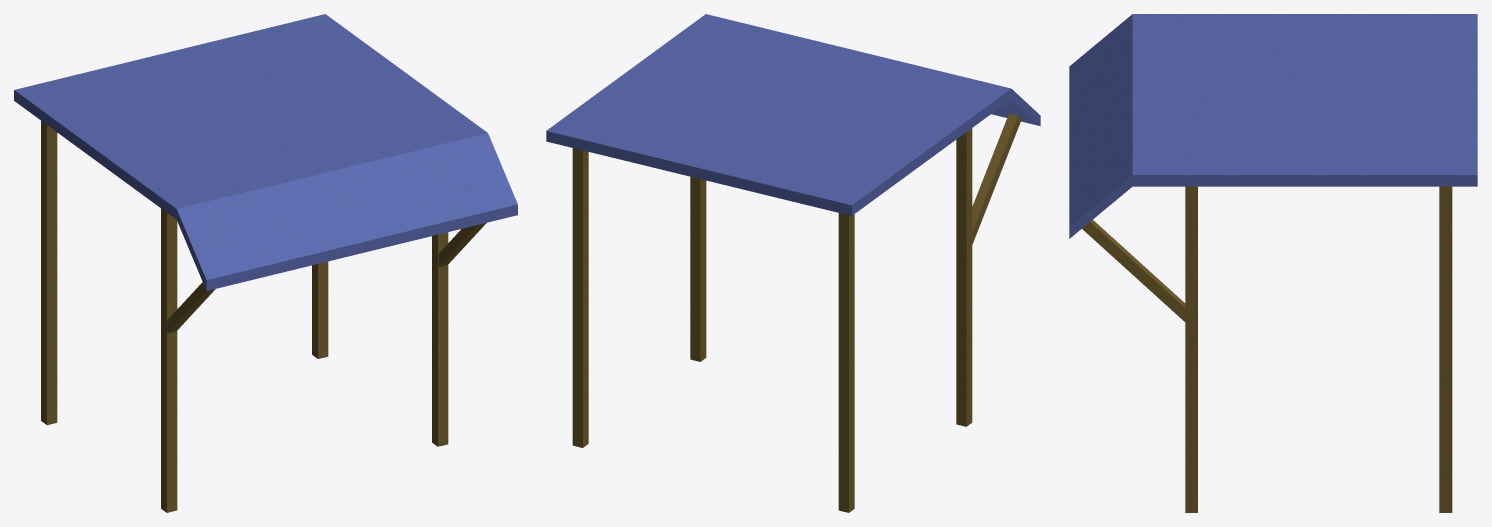
Rendered from Overhang.fbx.
3 views of the same model, side by side, from view 1: azimuth 30°, elevation 25°; view 2: azimuth 150°, elevation 25°; view 3: azimuth 270°, elevation 25° (orthographic). The views are drawn at different scales.
Parts seen in each view (by area): view 1: FoodStall; view 2: FoodStall; view 3: FoodStall.
Boxes of the visible parts, x1,y1,x2,y2 form: FoodStall: (14,14,517,512); FoodStall: (546,14,1040,512); FoodStall: (1069,14,1477,512).
Size of the model in its own units: 300 by 300 by 321.
Materials: 1 (1 with a texture image).
